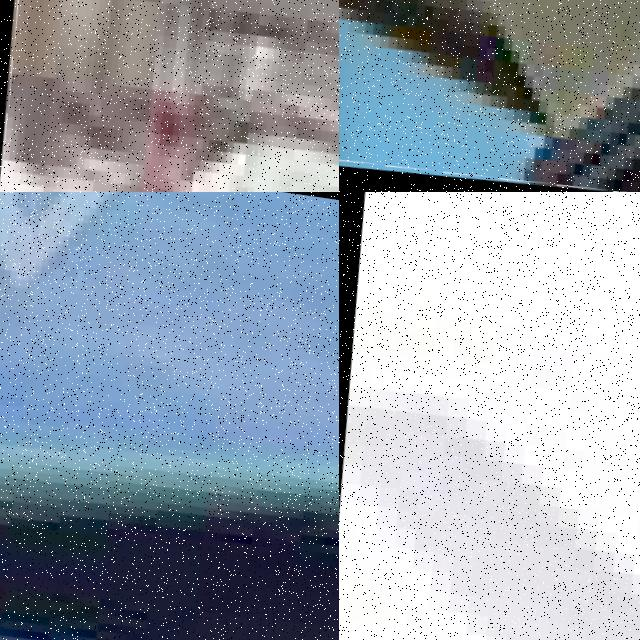0: (0, 0, 339, 192)
drone: (0, 192, 339, 640), (339, 192, 640, 640), (339, 0, 640, 192)
